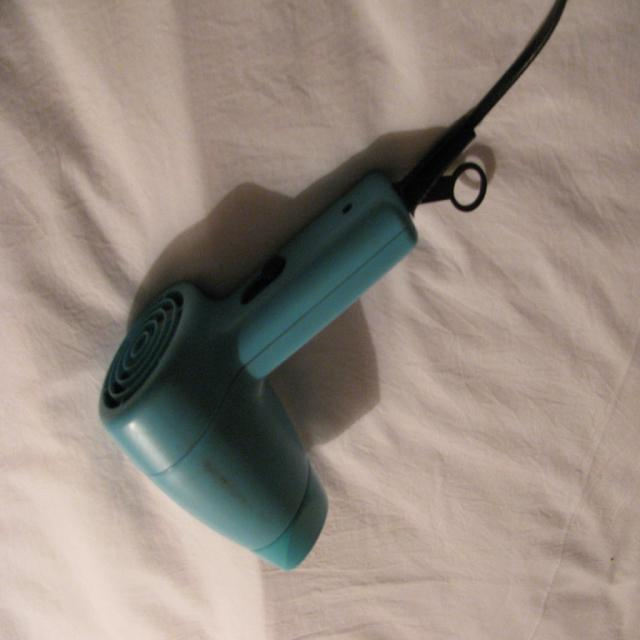dryer: (80, 96, 520, 588)
